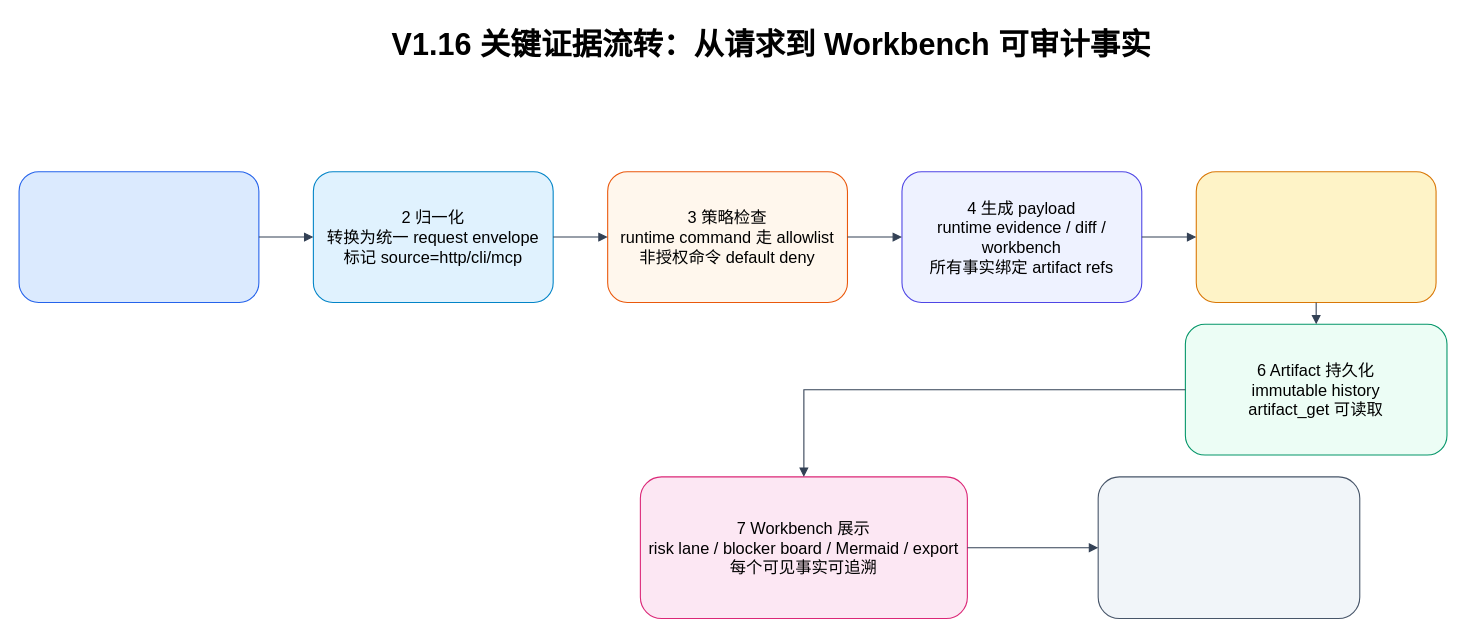
Image size: 1466x638. Some labels were removed from this diagram. Each missing label, with the centre of its shape:
"1 请求进入 HTTP / CLI / MCP 携带 requestId、projectId、payload" goes at [138,236].
"5 Schema 校验 失败返回结构化错误 成功才允许持久化" goes at [1315,236].
"8 Final Audit PRD review false-green audit V1.13-V1.15 regression" goes at [1228,547].
